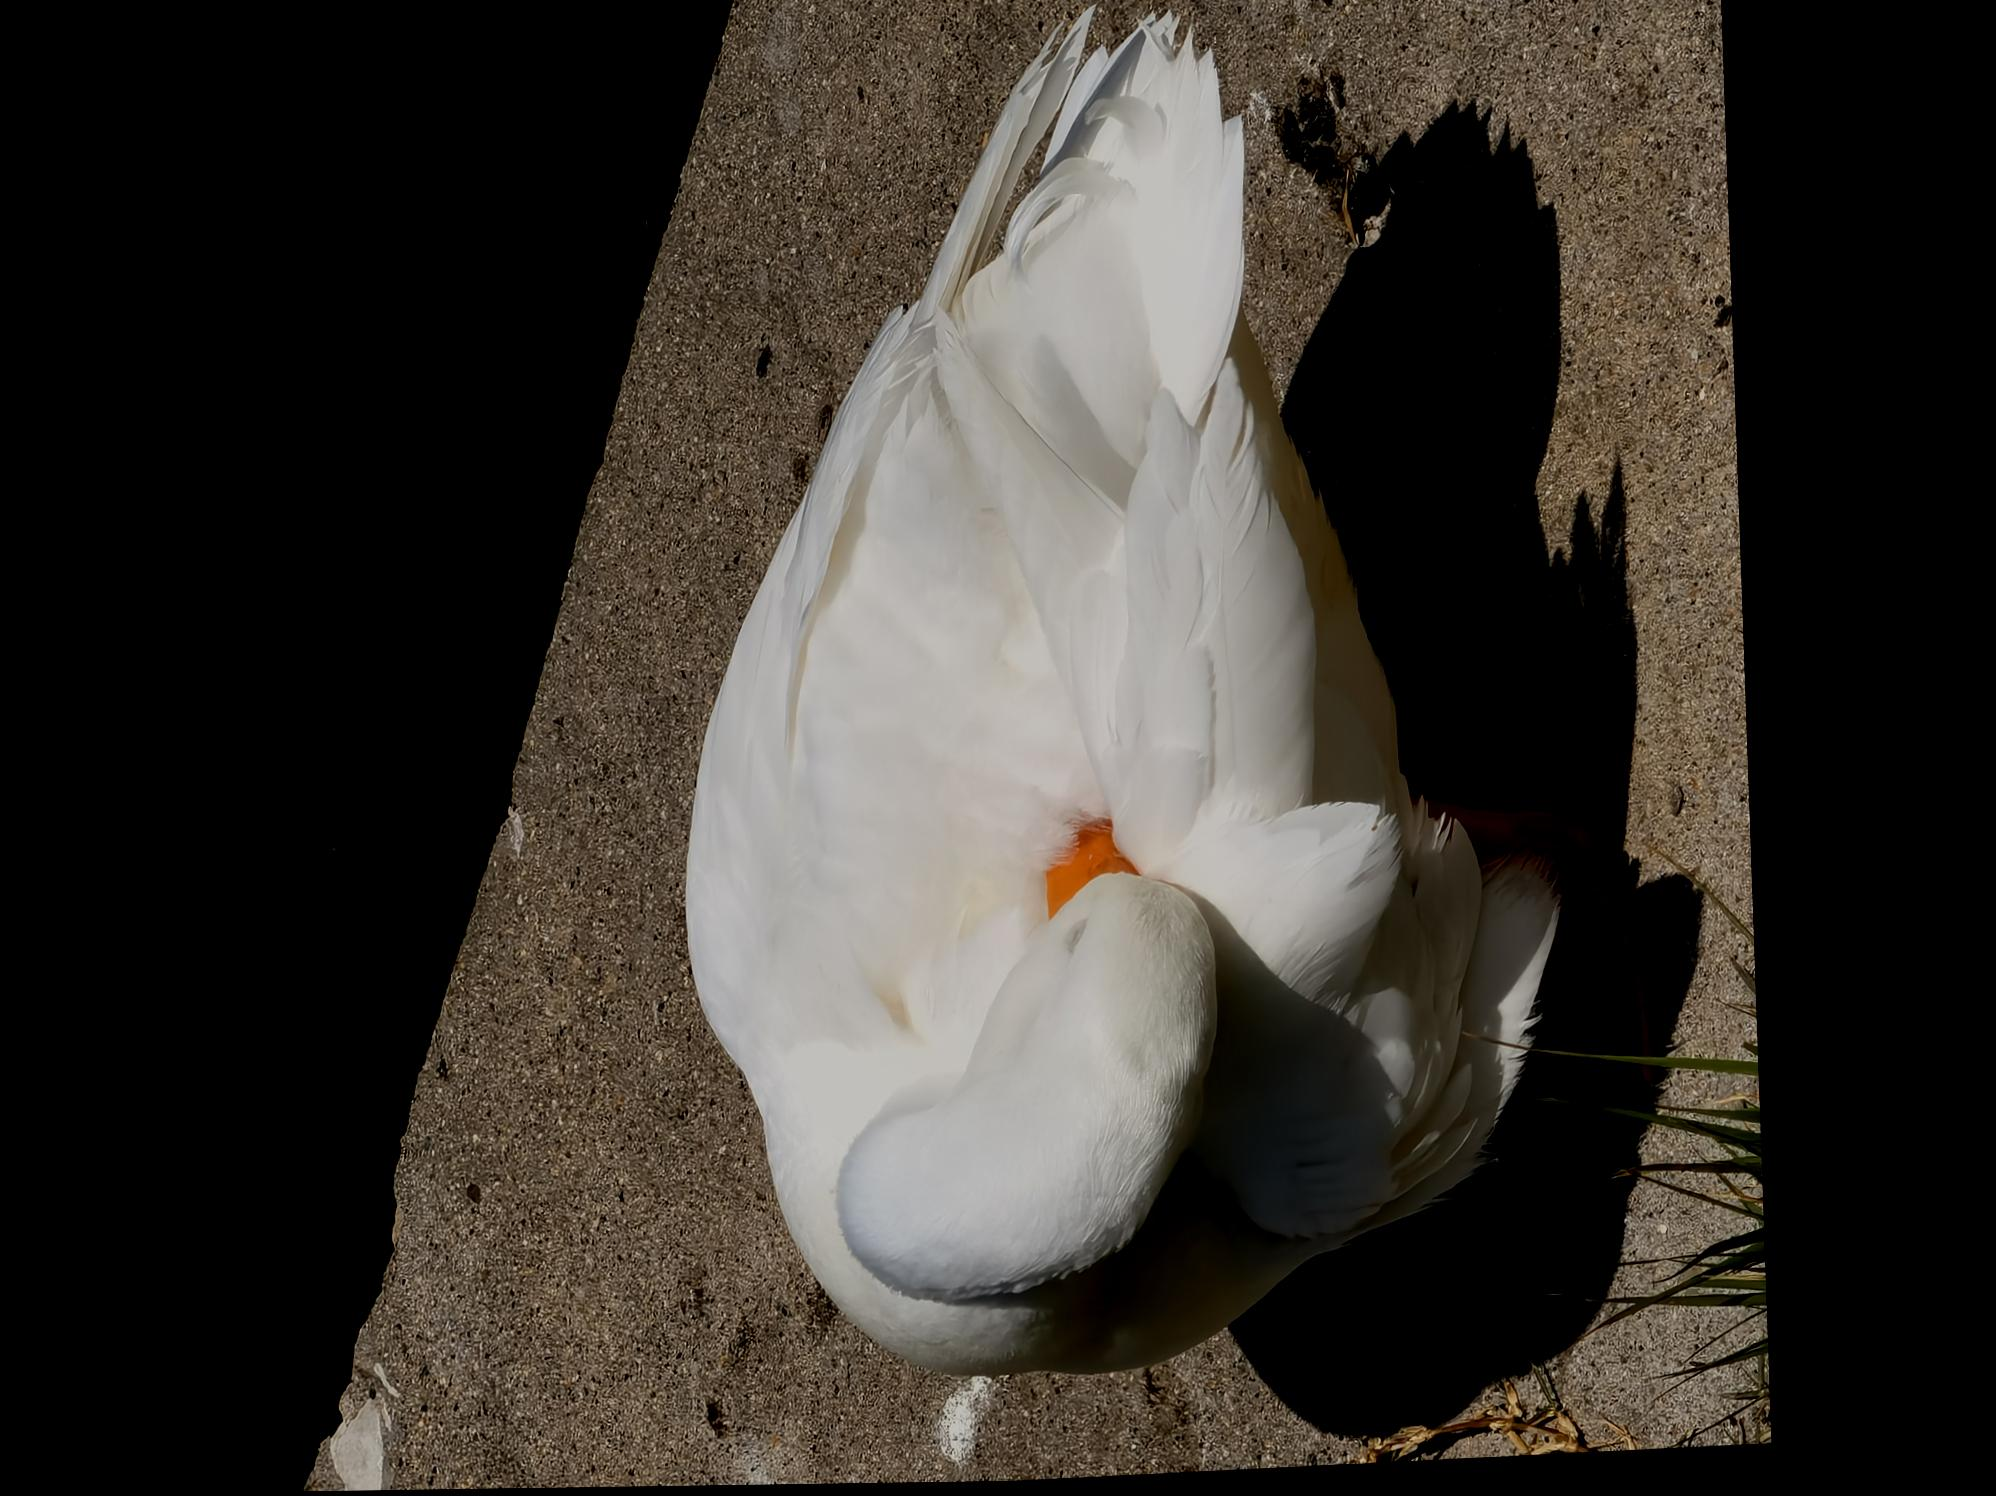duck: (646, 0, 1660, 1383)
